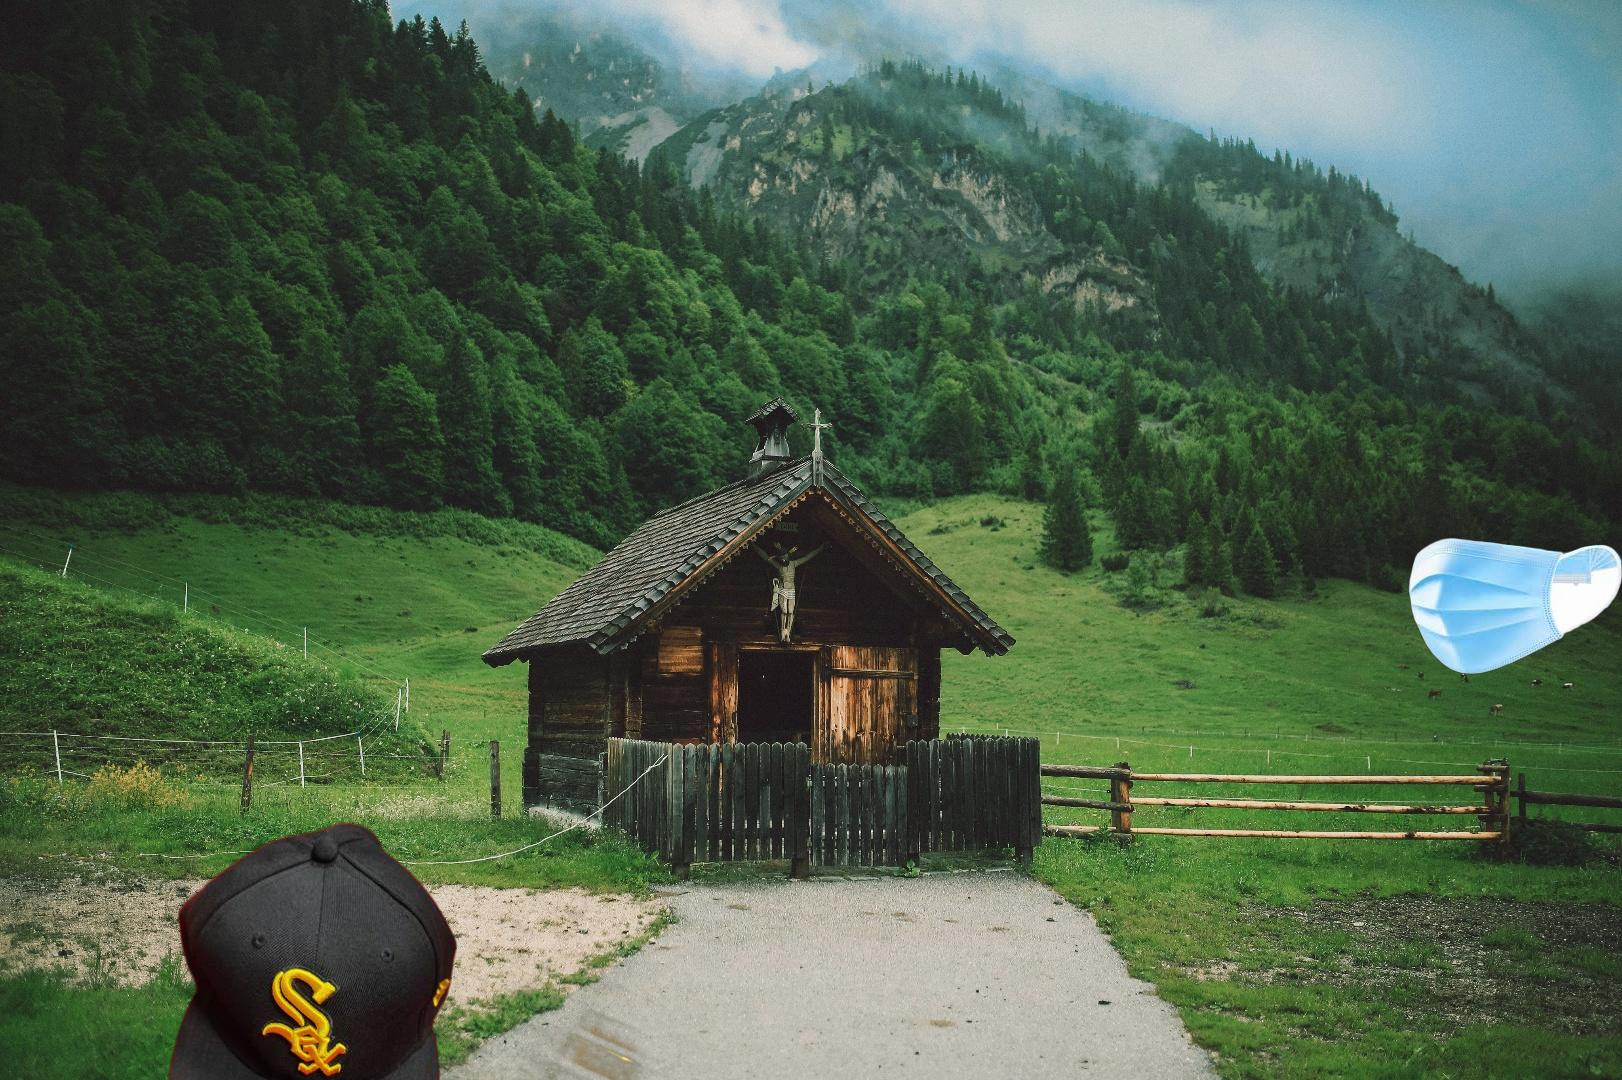clothes: (164, 818, 459, 1080)
penholder: (165, 802, 665, 1080)
trash: (1406, 535, 1622, 677)
